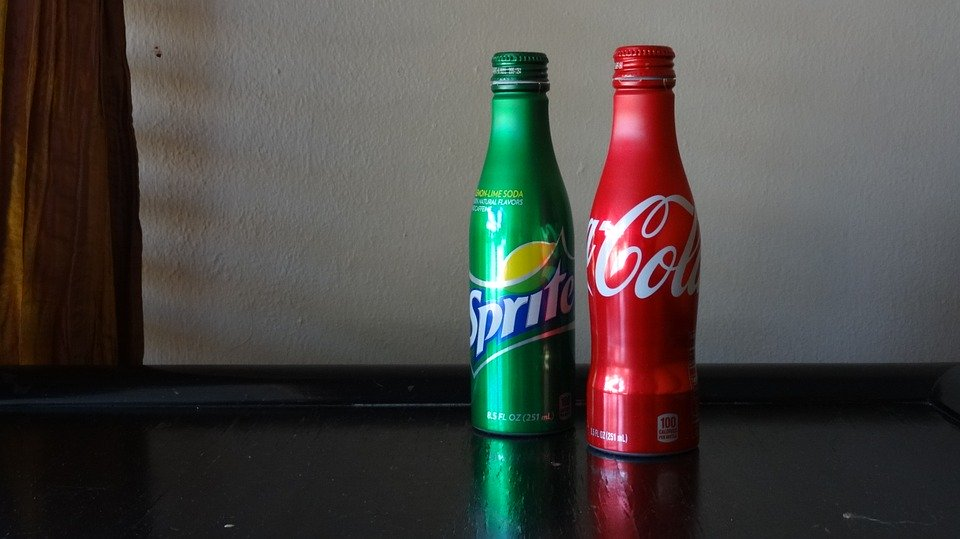Coca-Cola: (574, 45, 694, 460)
Sprite: (458, 43, 577, 459)
